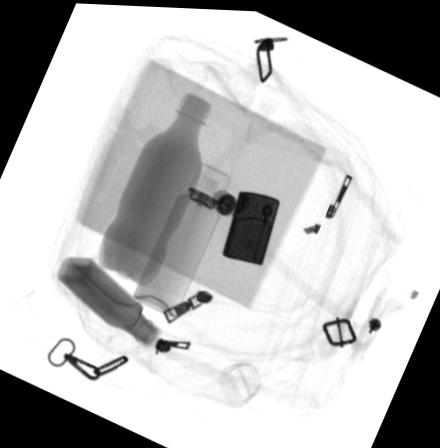Lighter: (221, 189, 280, 263)
Sprayer: (131, 160, 230, 316)
